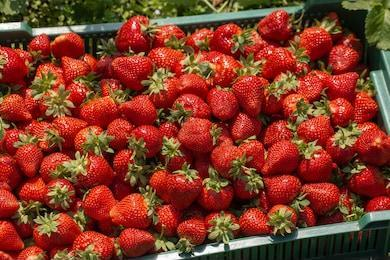Fresa: (108, 53, 159, 93), (299, 177, 344, 221), (107, 191, 157, 230), (165, 166, 204, 214), (70, 151, 118, 189), (114, 13, 157, 55), (259, 139, 302, 178), (296, 22, 335, 64), (80, 182, 118, 225), (69, 228, 120, 260), (232, 71, 266, 118), (45, 113, 91, 147), (295, 112, 339, 147), (205, 84, 245, 121), (256, 7, 297, 43), (128, 120, 165, 158), (178, 116, 217, 152), (210, 144, 249, 180), (41, 175, 78, 212), (117, 224, 157, 257), (238, 205, 274, 240), (204, 210, 240, 243), (324, 70, 360, 103), (1, 91, 34, 125), (59, 51, 93, 84), (264, 201, 298, 234), (14, 141, 45, 177), (175, 214, 209, 245), (26, 30, 55, 61)
